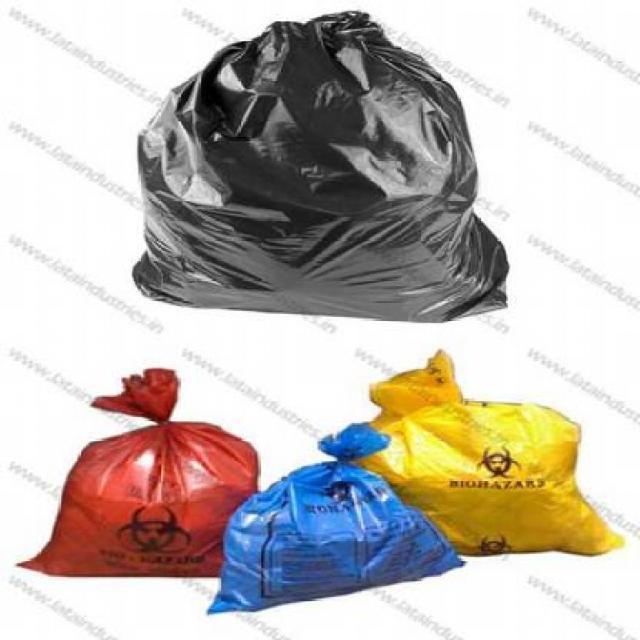garbage: (3, 3, 638, 638)
